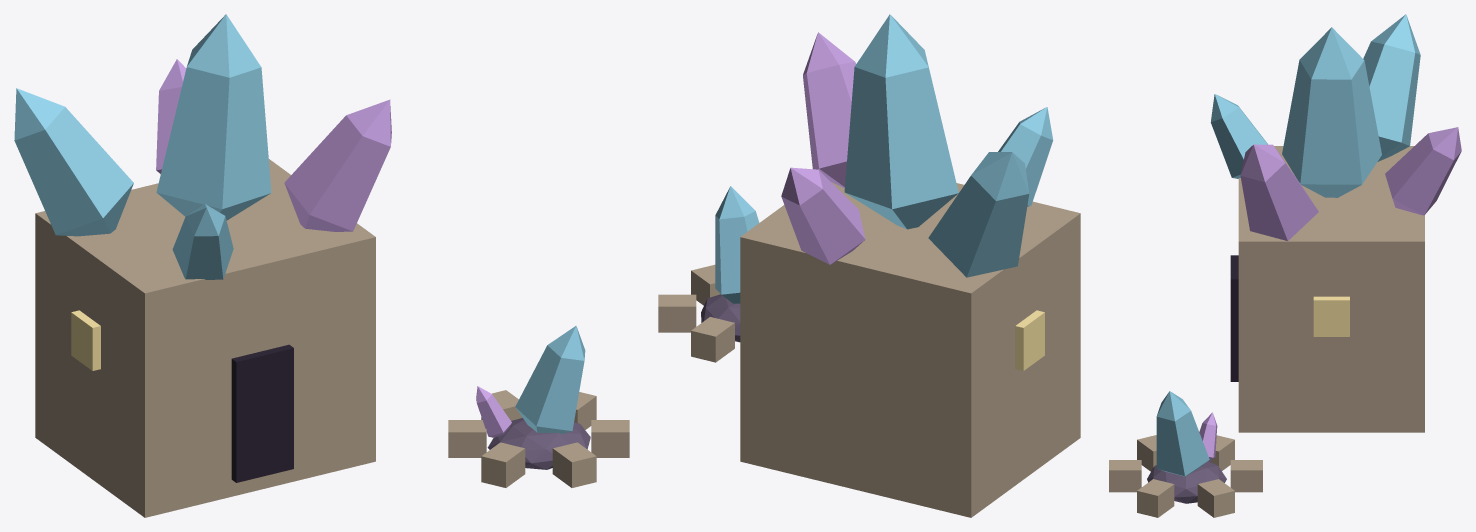
Rendered from cave-landmark-s2b.glb.
3 views of the same model, side by side, from view 1: azimuth 30°, elevation 25°; view 2: azimuth 150°, elevation 25°; view 3: azimuth 270°, elevation 25° (orthographic). The views are drawn at different scales.
Visible parts, largest first — view 1: cave-landmark-s2b; view 2: cave-landmark-s2b; view 3: cave-landmark-s2b.
Boxes of the visible parts, x1,y1,x2,y2 form: cave-landmark-s2b: (14,14,629,517); cave-landmark-s2b: (658,14,1080,517); cave-landmark-s2b: (1109,14,1461,517).
Size of the model in its own units: 1.16 by 0.9975 by 0.8711.
